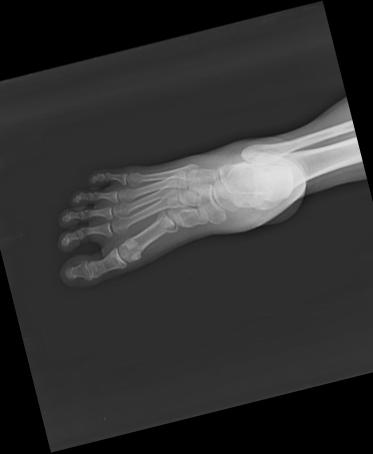fractured: (155, 208, 180, 236)
